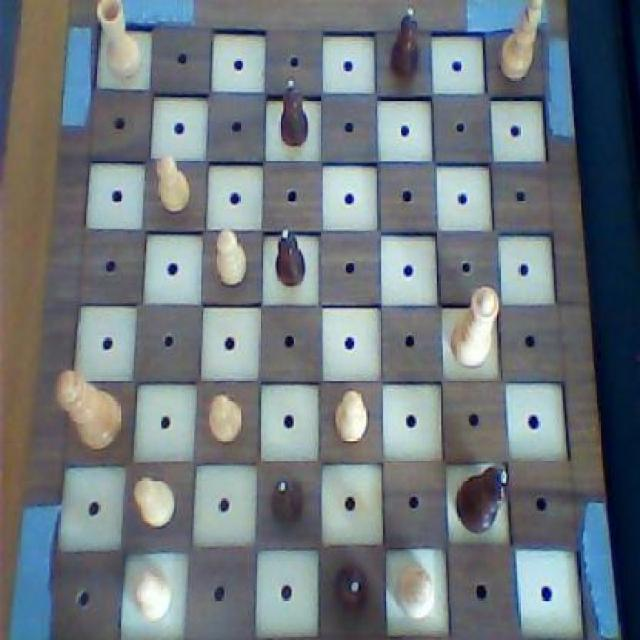black-bishop: (454, 462, 514, 538)
black-knight: (386, 1, 422, 84), (274, 74, 311, 149), (271, 223, 308, 290), (266, 472, 305, 530), (332, 560, 370, 615)
black-rook: (494, 0, 545, 88), (394, 565, 438, 620)
white-bishop: (51, 365, 125, 452)
white-knight: (128, 471, 180, 534), (128, 562, 174, 624), (152, 148, 195, 213), (209, 224, 249, 292), (331, 388, 372, 448), (206, 388, 245, 447)
white-pawn: (448, 281, 502, 374)
white-queen: (92, 0, 146, 83)
